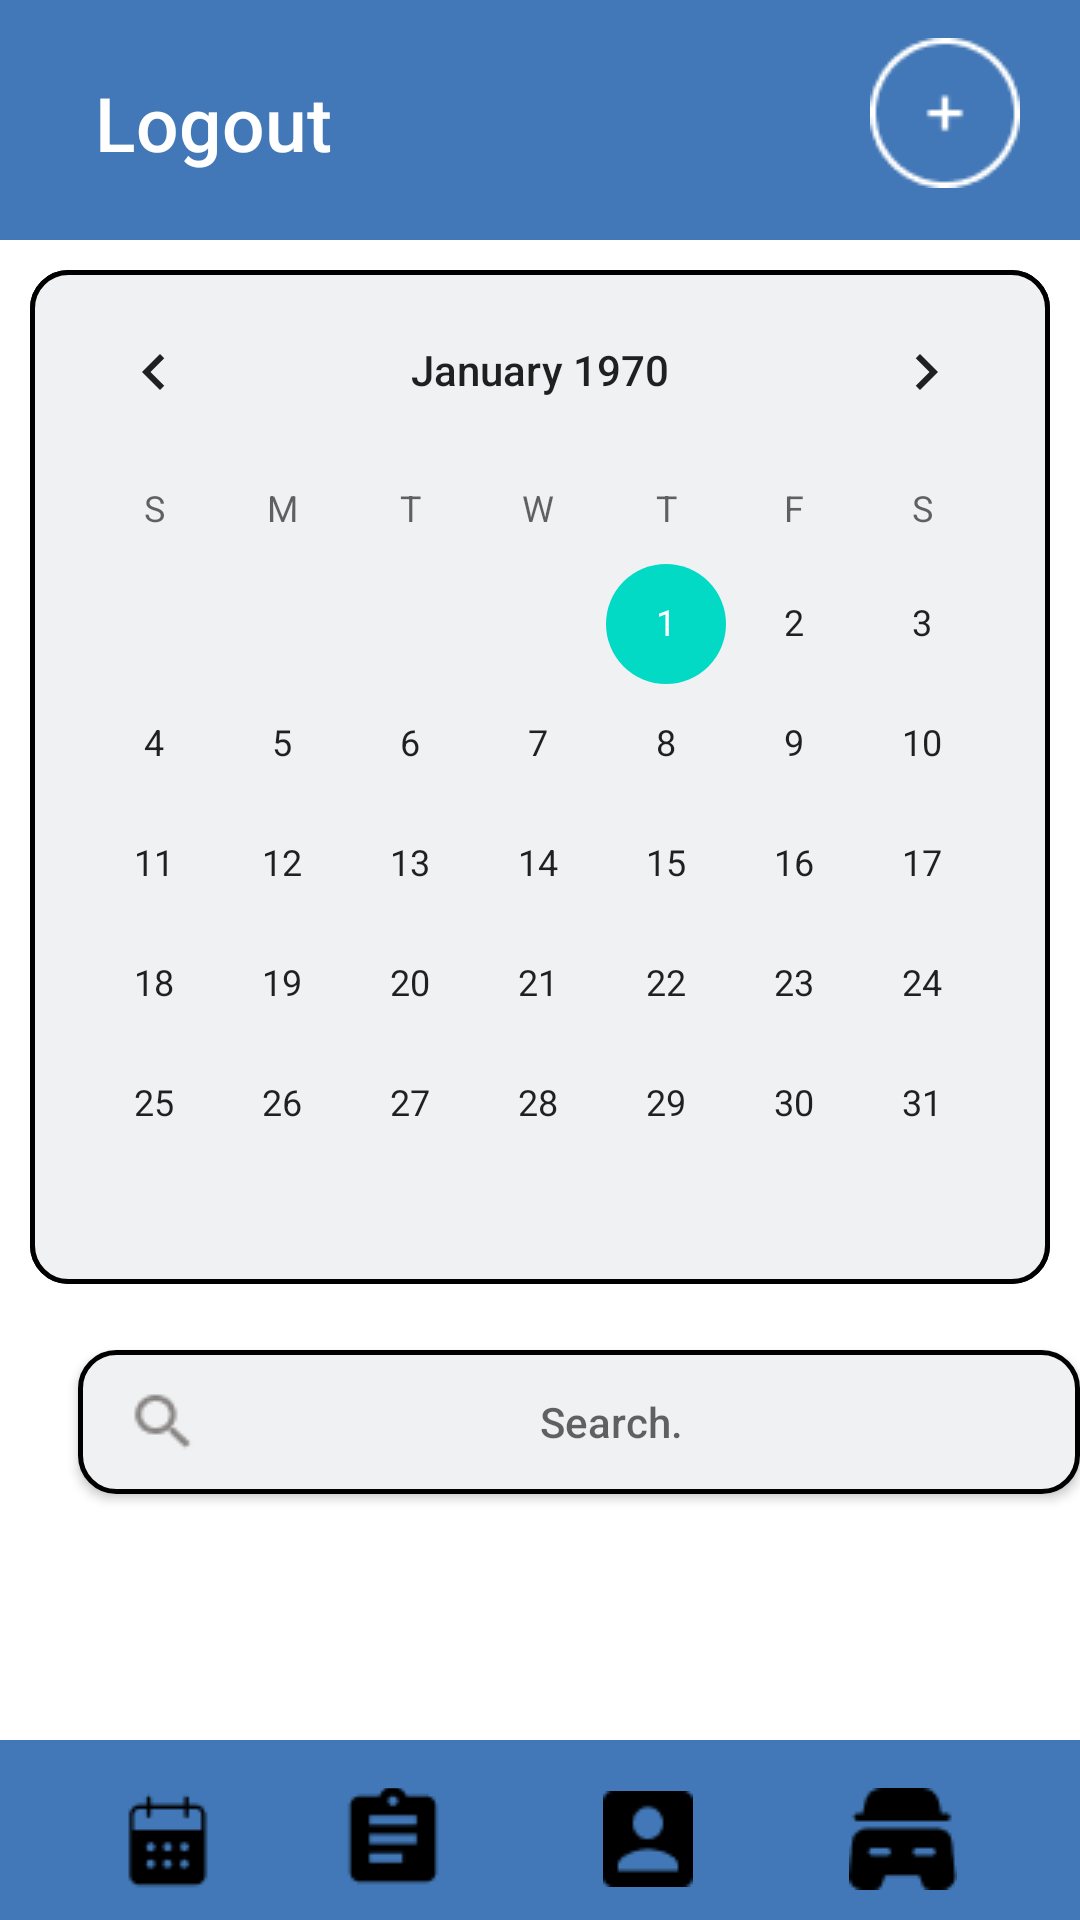

Point at icon controls on the screen. Image size 1080px x 1920px, points as (x=x, y=y).
add: (x=945, y=113)
calender: (x=168, y=1841)
car: (x=903, y=1839)
jobcardicon: (x=393, y=1836)
profileicon: (x=648, y=1839)
